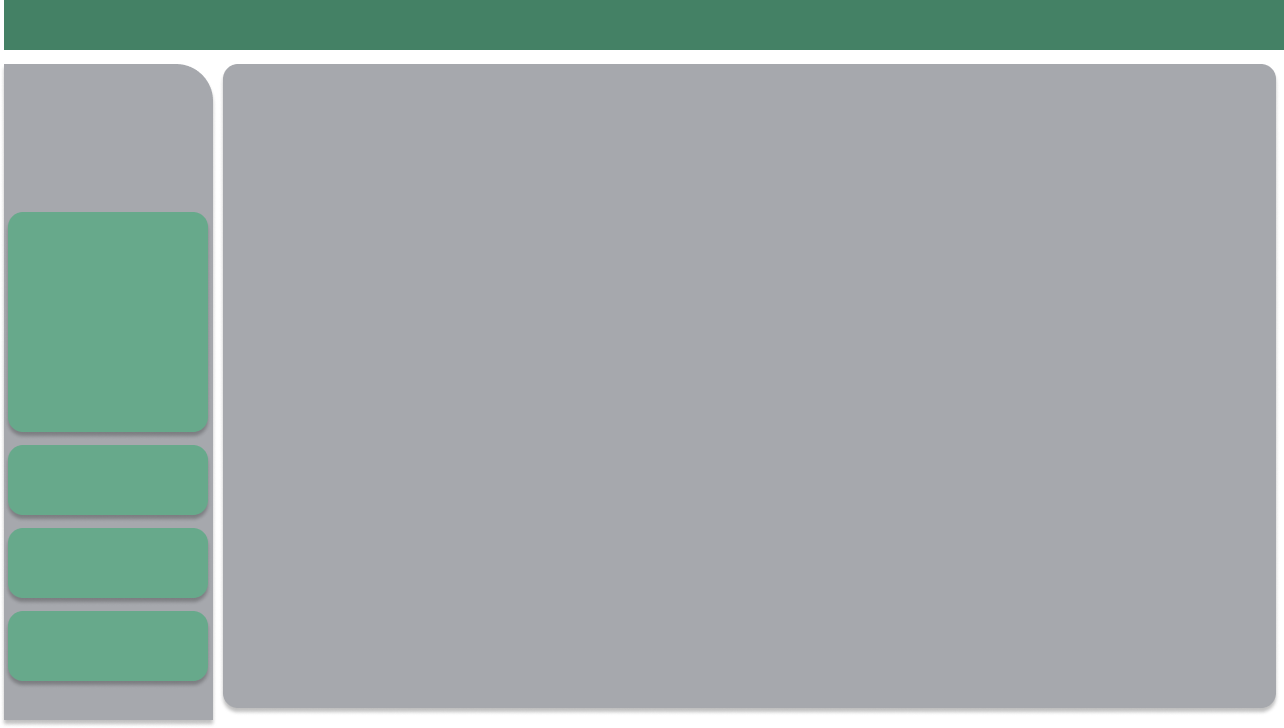

This screenshot's page, from the dashboard's own definition file:
{"tool":"powerbi","page":{"name":"Capa","canvas":[1280,720],"ordinal":0},"visuals":[{"type":"image","box":[12.3,52,176.4,64.3],"z":0},{"type":"image","box":[81.6,125.8,40.6,26],"z":0,"group":"g1"},{"type":"image","box":[122.1,125.8,40.6,26],"z":1000,"group":"g1"},{"type":"group","id":"g1","title":"Grupo 2","box":[41,125.8,120.3,26],"z":2000},{"type":"image","box":[41,125.8,40.6,26],"z":2000,"group":"g1"},{"type":"image","box":[1182.7,0,83.6,48.2],"z":3000},{"type":"image","box":[1115.5,0,67.3,48.2],"z":4000},{"type":"pageNavigator","box":[966,263.6,259,263.6],"z":5000}]}

Visuals, with their boxes in screenshot pixels (x1, y1, x2, y2), scaled from the page's 1280x720 canvas onto the 1284x728 screenshot:
image: {"left": 12, "top": 53, "right": 189, "bottom": 118}
image: {"left": 82, "top": 127, "right": 123, "bottom": 153}
image: {"left": 122, "top": 127, "right": 163, "bottom": 153}
"Grupo 2" group: {"left": 41, "top": 127, "right": 162, "bottom": 153}
image: {"left": 41, "top": 127, "right": 82, "bottom": 153}
image: {"left": 1186, "top": 0, "right": 1270, "bottom": 49}
image: {"left": 1119, "top": 0, "right": 1186, "bottom": 49}
pageNavigator: {"left": 969, "top": 267, "right": 1229, "bottom": 533}
